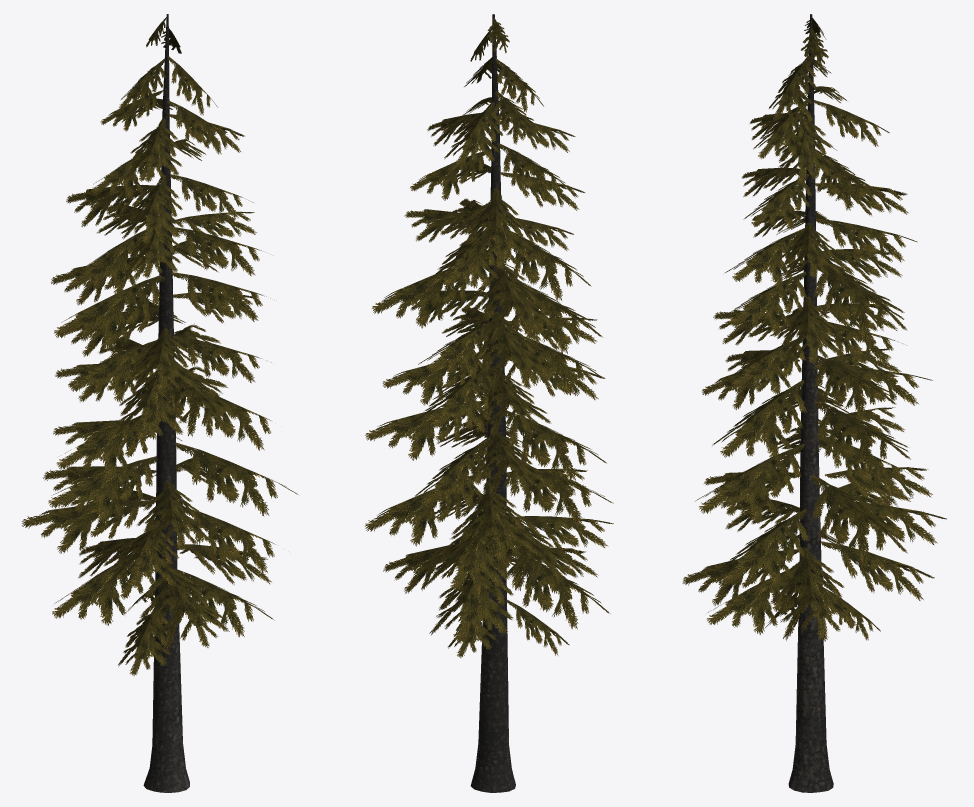
Rendered from pine_tree_n_3_1.obj.
3 renders of one model, left to right at view 1: azimuth 30°, elevation 25°; view 2: azimuth 150°, elevation 25°; view 3: azimuth 270°, elevation 25°, orthographic.
Visible parts, largest first — view 1: pine_tree_n_3_1_branches, pine_tree_n_3_1; view 2: pine_tree_n_3_1_branches, pine_tree_n_3_1; view 3: pine_tree_n_3_1_branches, pine_tree_n_3_1.
Boxes of the visible parts, <box> form: pine_tree_n_3_1_branches: <box>22,17,297,675</box>; pine_tree_n_3_1: <box>143,14,189,792</box>; pine_tree_n_3_1_branches: <box>365,18,613,657</box>; pine_tree_n_3_1: <box>470,14,515,792</box>; pine_tree_n_3_1_branches: <box>682,18,946,641</box>; pine_tree_n_3_1: <box>788,14,833,792</box>.
Bounding box in the file's own units: 3 × 9.1 × 3.13.
